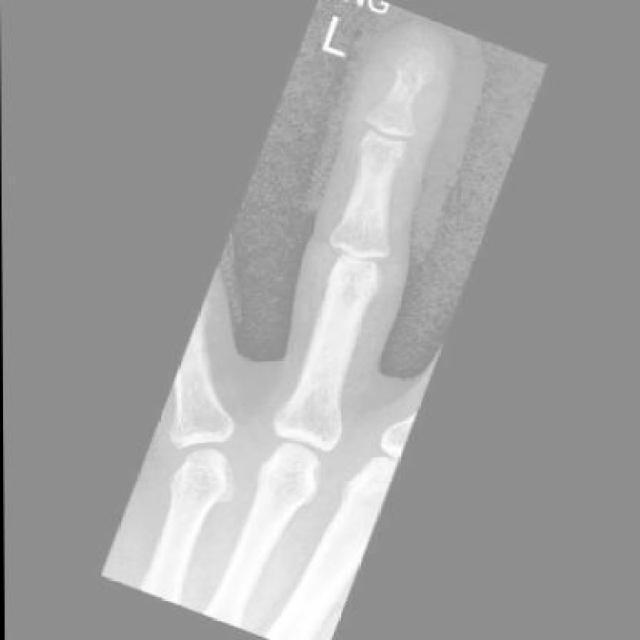Fracture: (376, 37, 444, 106)
